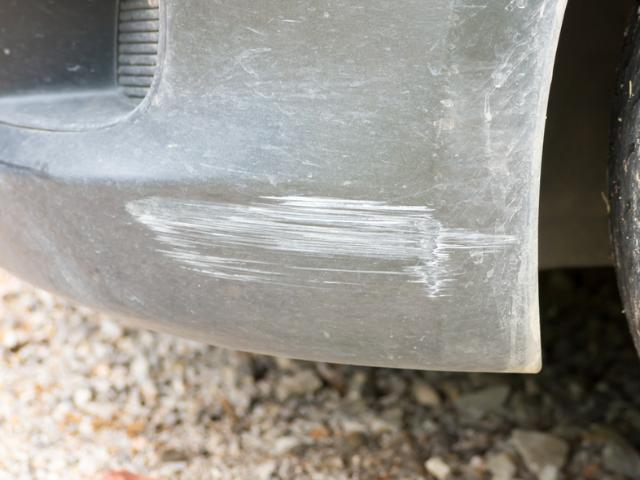Bumper: (48, 0, 571, 439)
